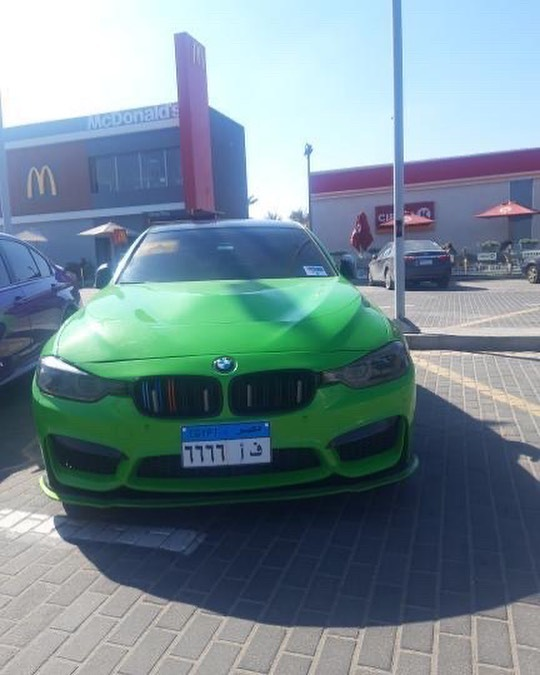carpl: (182, 425, 270, 468)
